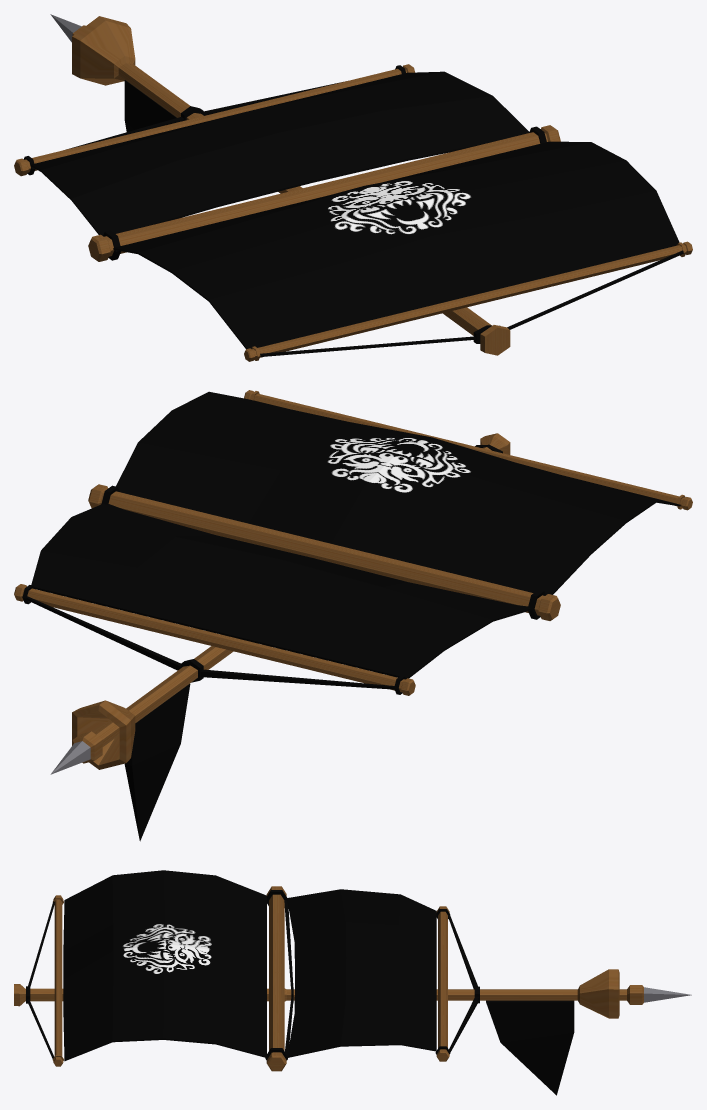
File: sail_a_16.fbx
3 views of the same model, one above another, from view 1: azimuth 30°, elevation 25°; view 2: azimuth 150°, elevation 25°; view 3: azimuth 270°, elevation 25° (orthographic). The views are drawn at different scales.
Parts seen in each view (by area): view 1: Cube.070; view 2: Cube.070; view 3: Cube.070.
Part boxes in pixels (x1,y1,x2,y2): Cube.070: (14, 14, 692, 361); Cube.070: (14, 390, 692, 841); Cube.070: (14, 870, 691, 1095).
Bounding box in the file's own units: 182 × 75.57 × 306.
